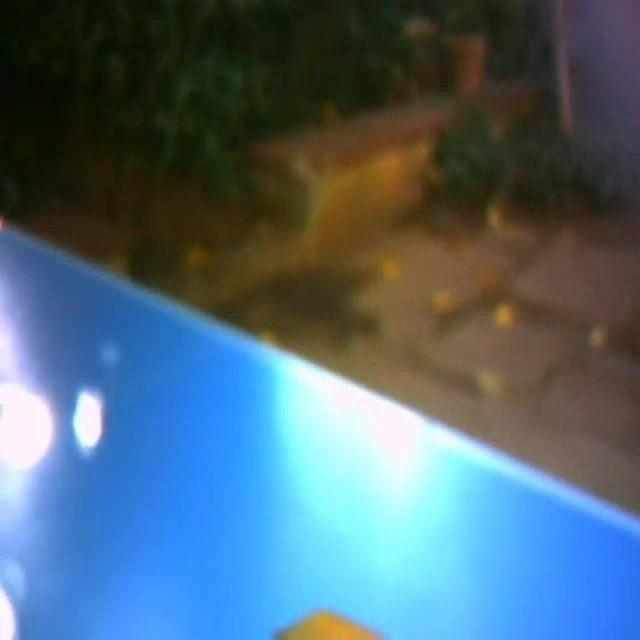other: (0, 341, 77, 624)
